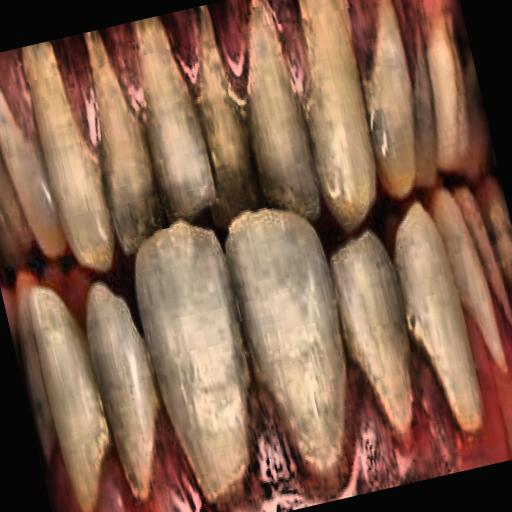Gingivitis: (0, 0, 471, 163), (306, 279, 512, 498), (40, 359, 330, 512)
